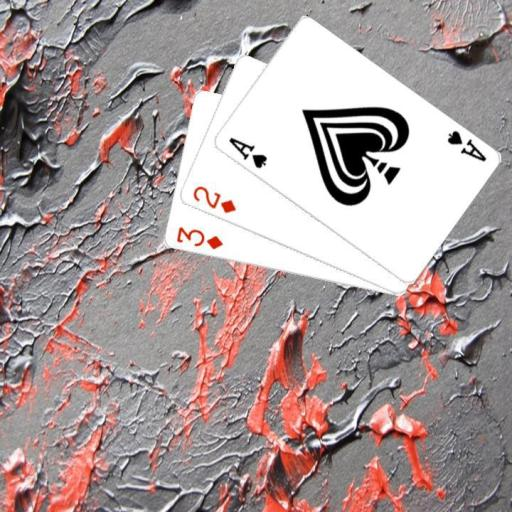2D: (189, 183, 238, 215)
3D: (173, 223, 225, 251)
AS: (443, 127, 488, 164), (225, 134, 268, 171)
